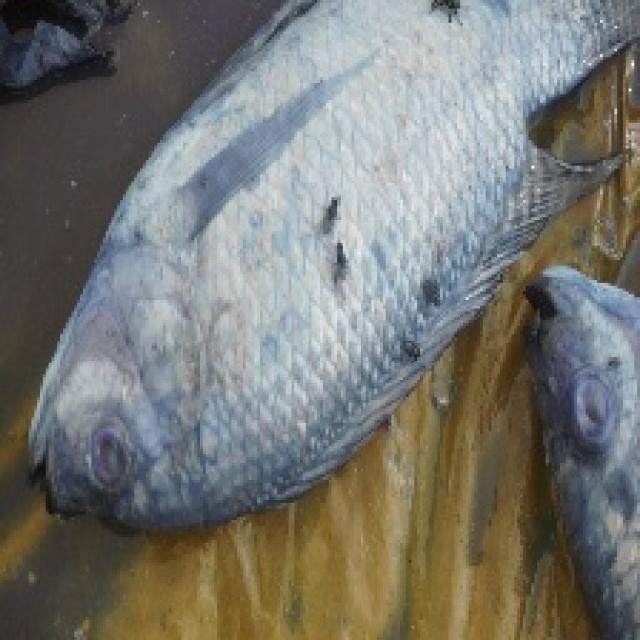Non-Fresh: (193, 73, 477, 387), (57, 412, 172, 501)
